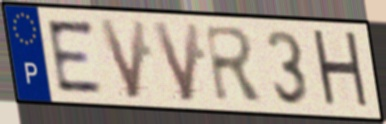3: (264, 28, 312, 108)
E: (42, 18, 106, 94)
H: (309, 27, 374, 115)
R: (201, 23, 268, 105)
V: (149, 19, 203, 105), (95, 16, 149, 102)
